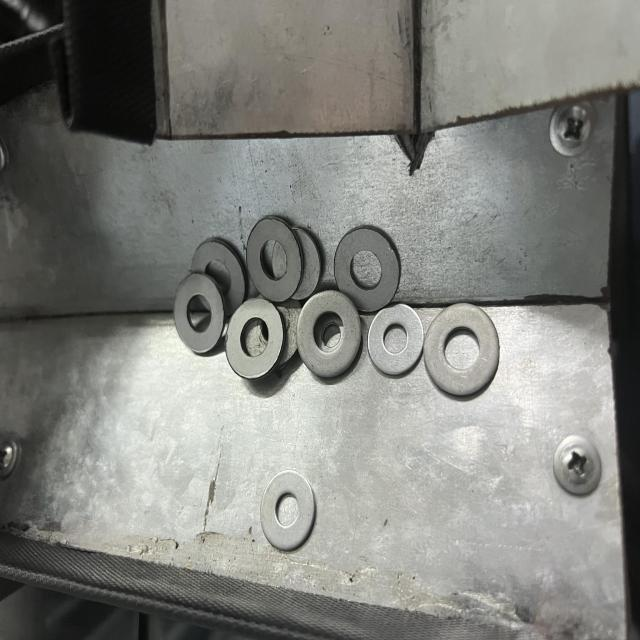washer: (423, 303, 500, 400), (296, 290, 362, 380), (226, 300, 285, 380), (260, 471, 316, 552), (175, 273, 224, 357)
